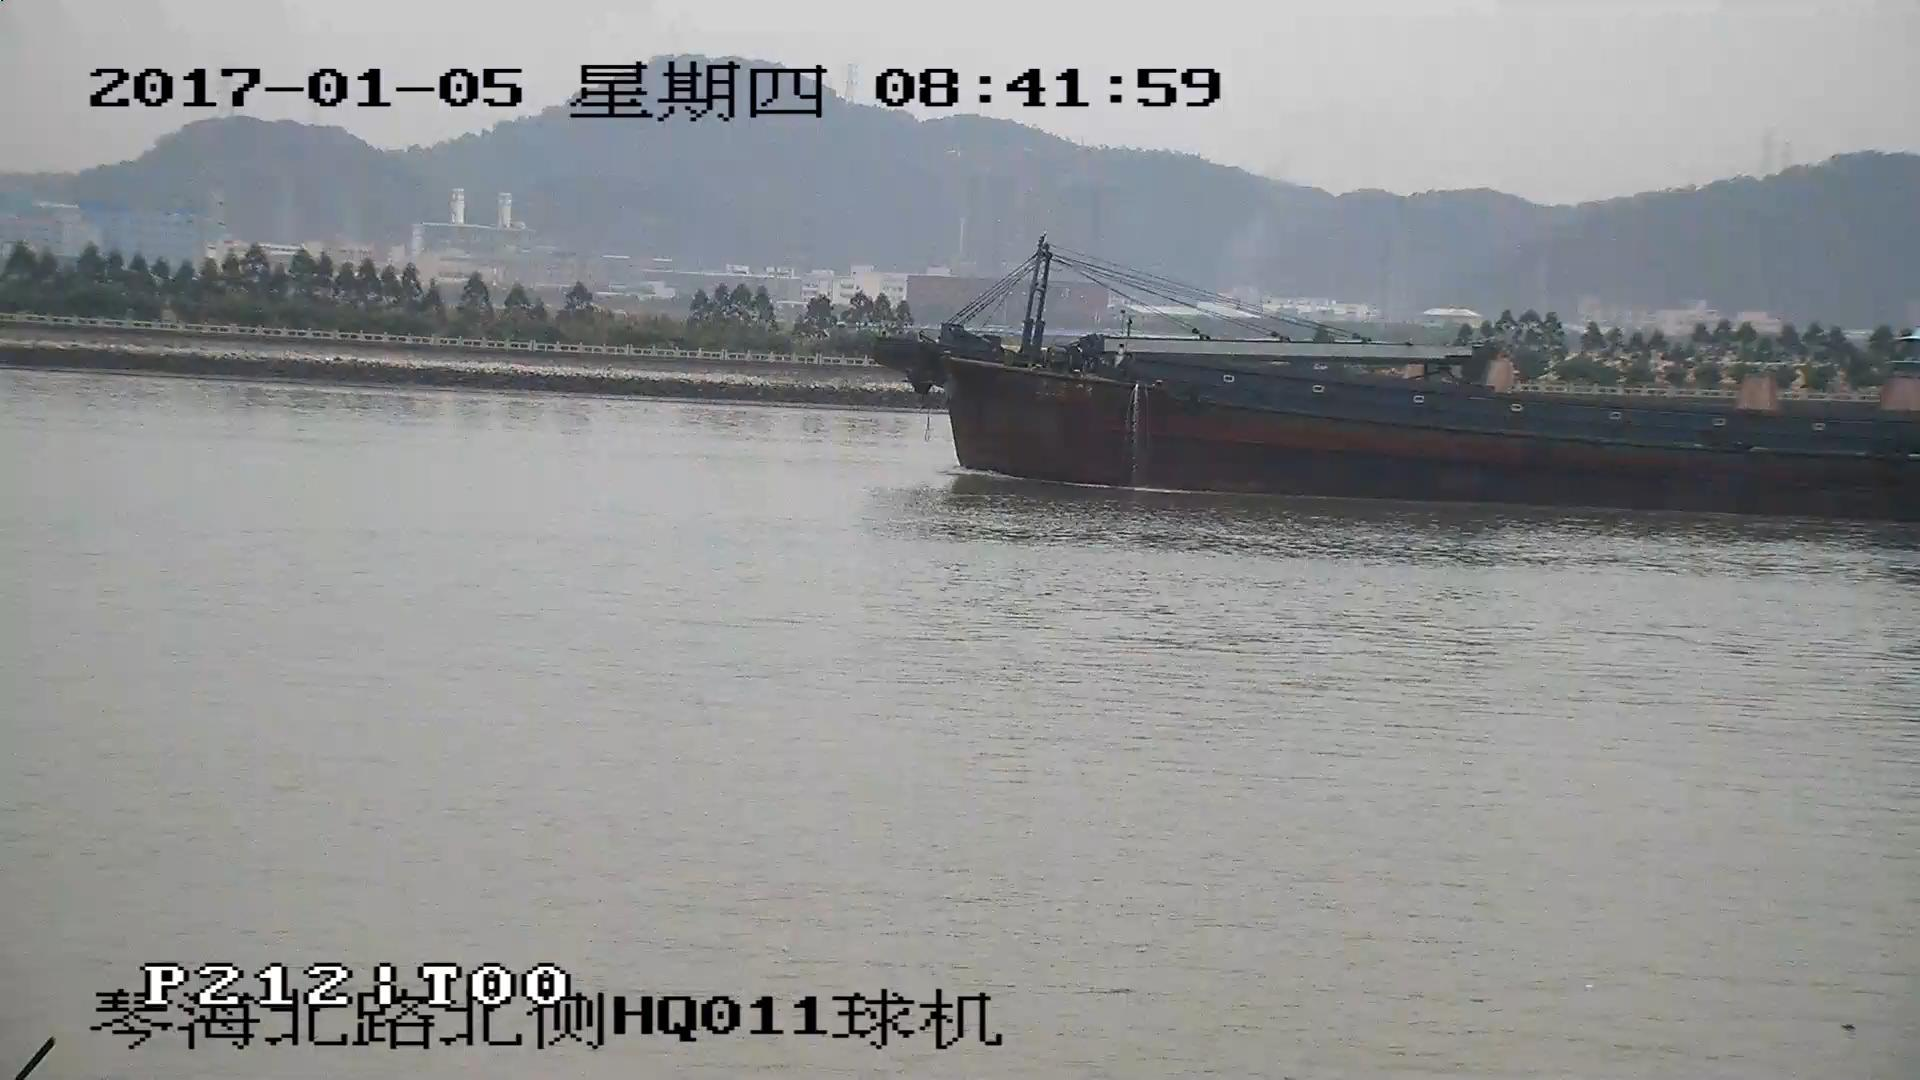Ship: (872, 247, 1920, 520)
